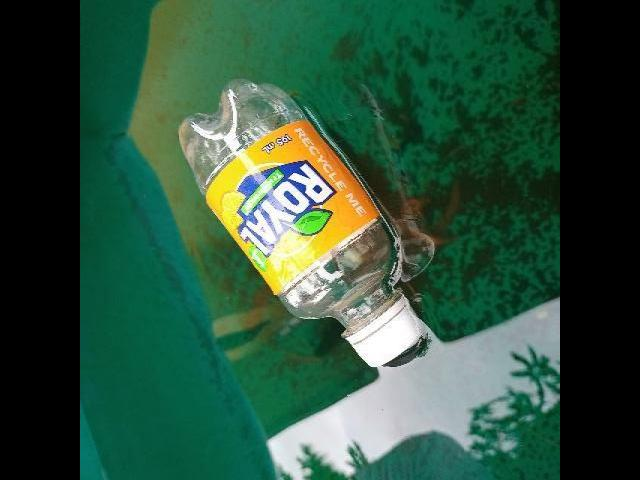Bottle: (162, 36, 440, 398)
